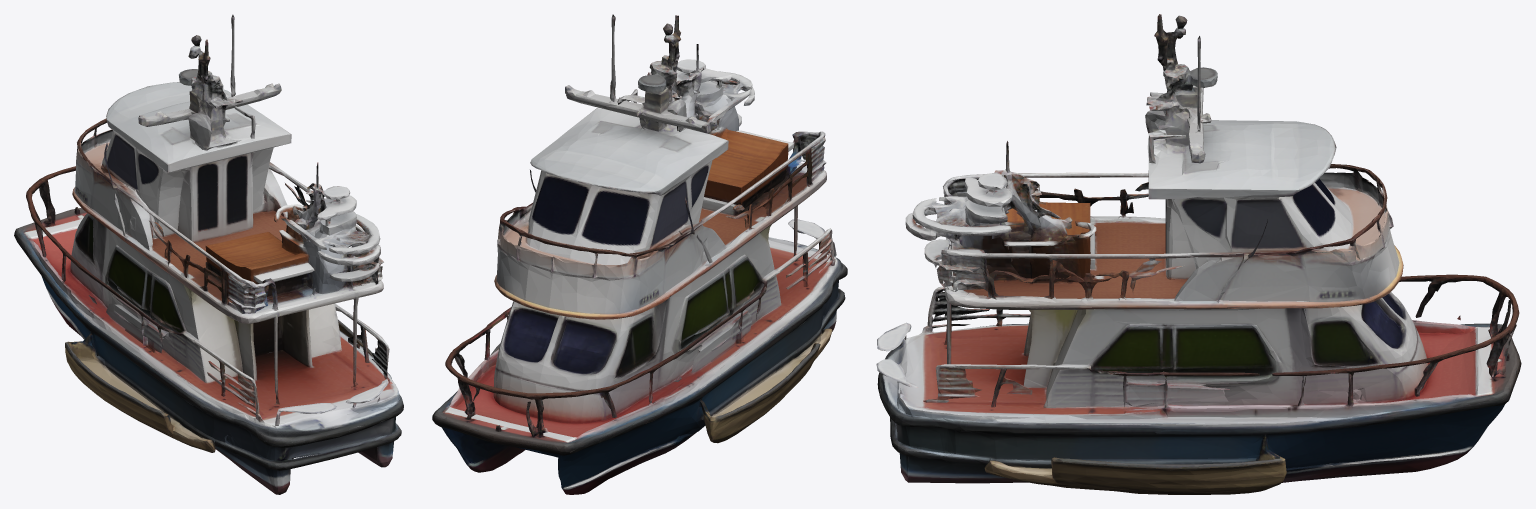
Rendered from vox.glb.
The picture shows the model from 3 angles, left to right: view 1: azimuth 30°, elevation 25°; view 2: azimuth 150°, elevation 25°; view 3: azimuth 270°, elevation 25°; orthographic projection. The views are drawn at different scales.
Visible parts, largest first — view 1: world; view 2: world; view 3: world.
Boxes of the visible parts, left/top/right/bottom form: world: left=14, top=14, right=403, bottom=494; world: left=432, top=14, right=847, bottom=494; world: left=876, top=14, right=1521, bottom=494.
Size of the model in its own units: 0.5074 by 0.7362 by 0.9978.
1 material, 1 textured.
